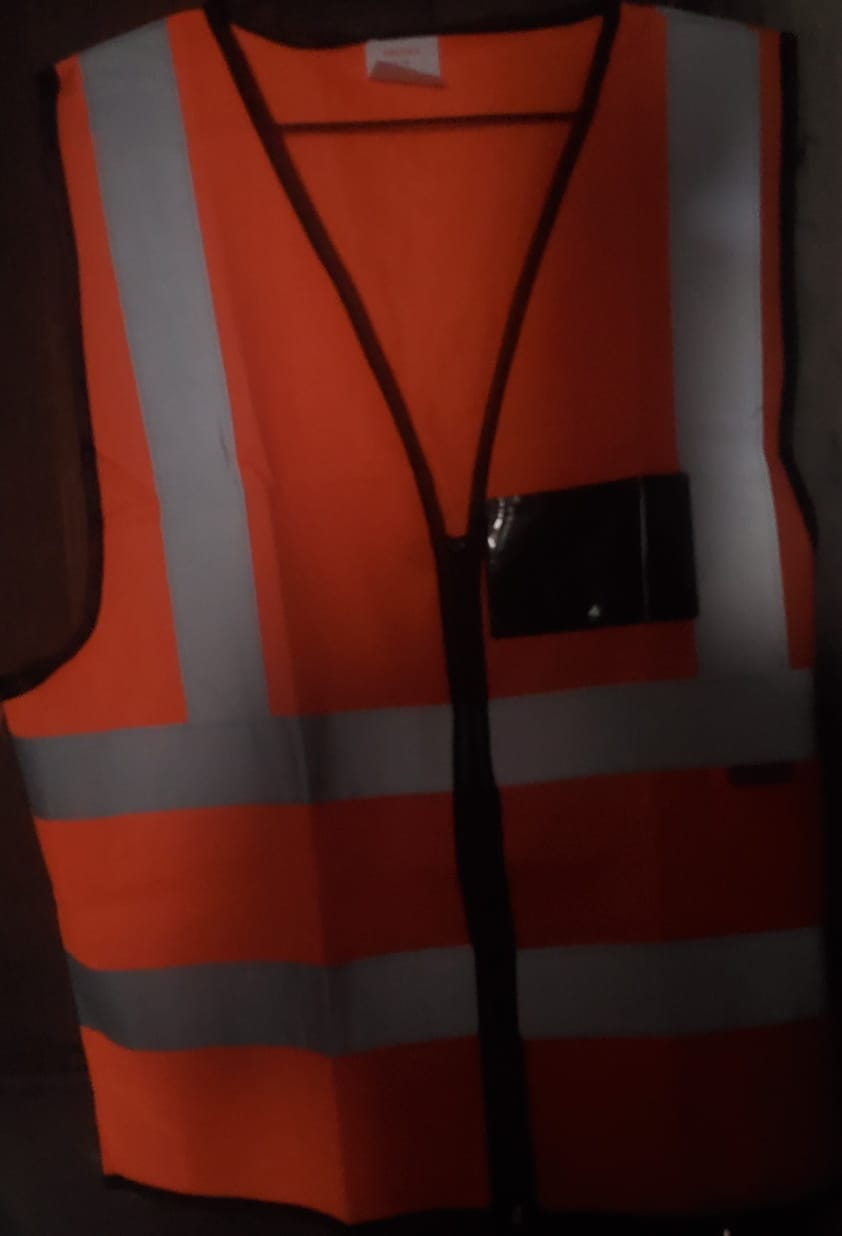vest: (18, 18, 842, 1236)
